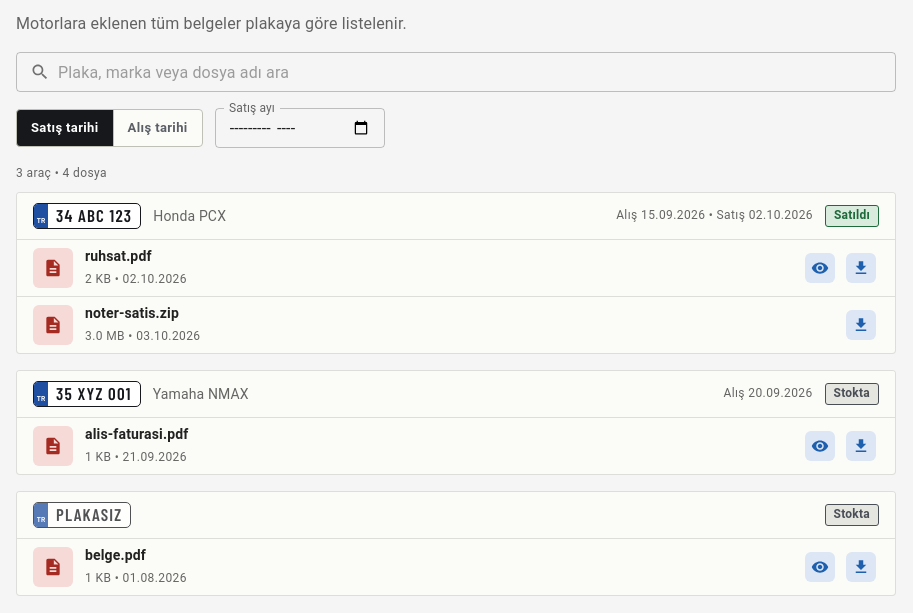
Scenario: Belge Arşivi: ay süzgeci › "Alış tarihi" seçilince aynı ay alış tarihine göre bakılır (Eylül: Honda ve Yamaha)
Click the button "Alış tarihi" at point(158, 128), box [113,109,203,147]
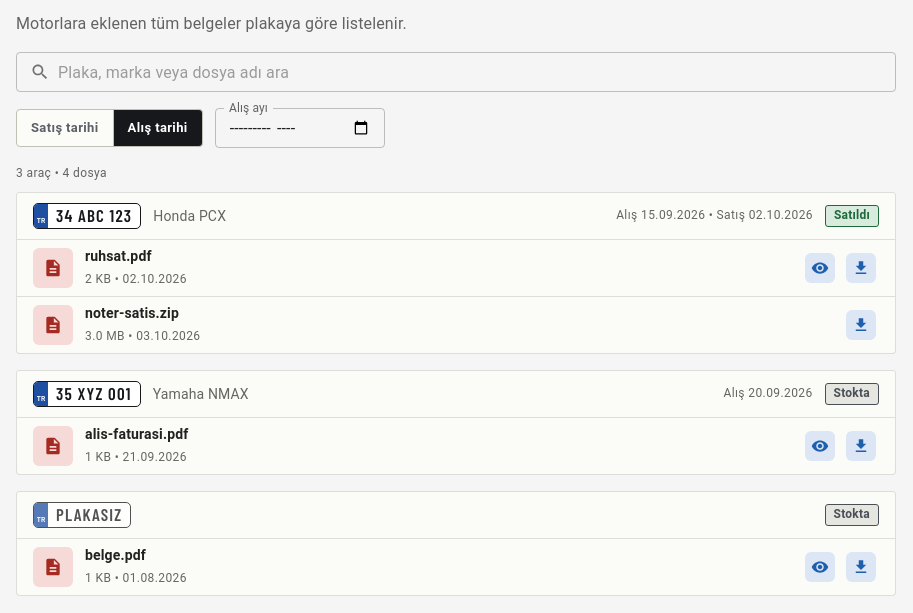
Type "2026-09" into the field labelled "Alış ayı" at point(300, 128), box [215,108,385,148]
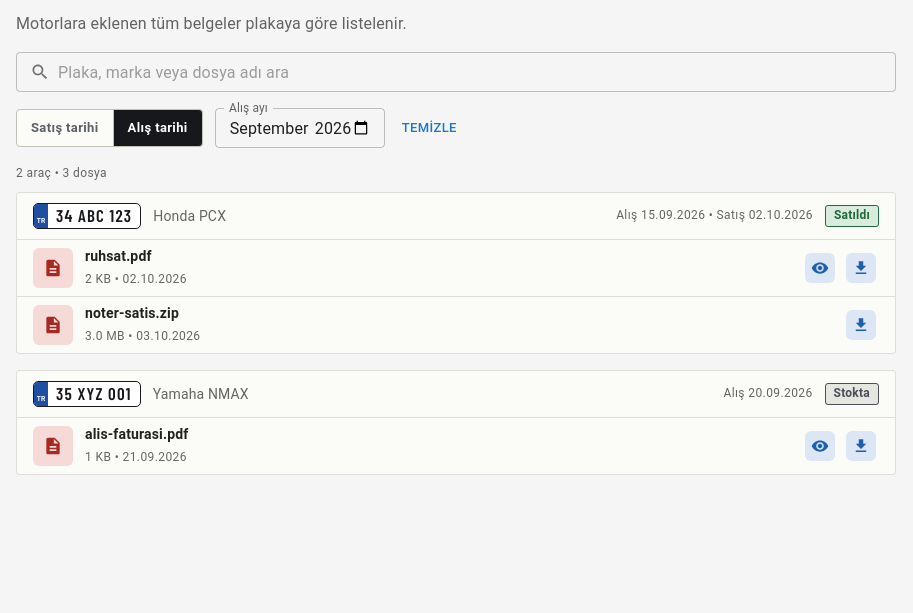
Expected: the text "Honda PCX" is shown, [153,208,226,224]
Result: the text "PLAKASIZ" is gone
Result: the text "2 araç • 3 dosya" is shown at [16,166,107,180]
